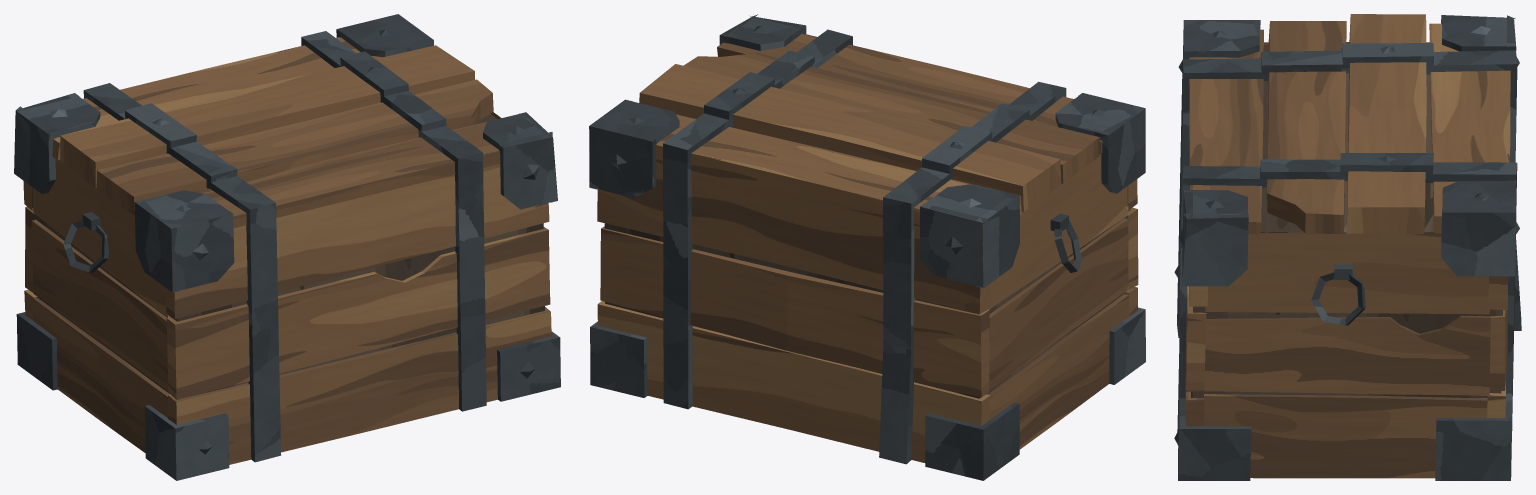
Rendered from SM_ReinforcedCrate.fbx.
3 renders of one model, left to right at view 1: azimuth 30°, elevation 25°; view 2: azimuth 150°, elevation 25°; view 3: azimuth 270°, elevation 25°, orthographic. The views are drawn at different scales.
Visible parts, largest first — view 1: SM_ReinforcedCrate; view 2: SM_ReinforcedCrate; view 3: SM_ReinforcedCrate.
Part boxes in pixels (box(x1,y1,x2,y2)): SM_ReinforcedCrate: box(14, 14, 560, 480); SM_ReinforcedCrate: box(589, 14, 1145, 480); SM_ReinforcedCrate: box(1174, 14, 1521, 480).
Bounding box in the file's own units: 0.9486 × 0.5768 × 0.6447.
